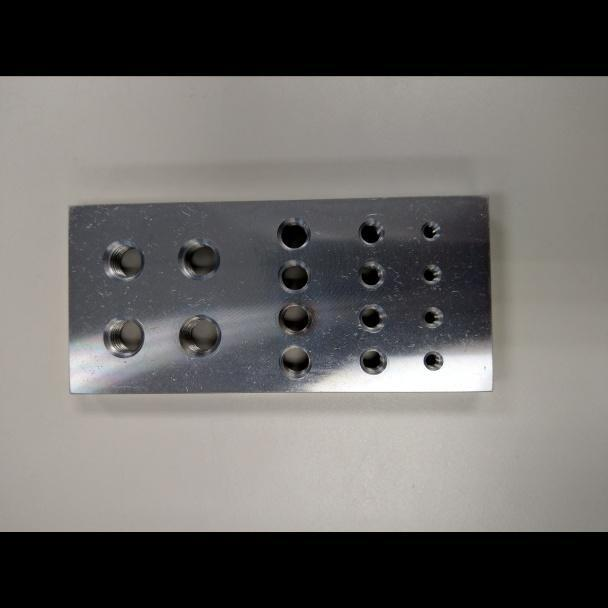hole: (176, 236, 221, 281), (101, 237, 145, 283), (178, 311, 222, 357), (102, 314, 145, 358), (277, 343, 313, 380), (275, 215, 311, 251), (276, 257, 311, 294), (277, 302, 313, 336), (356, 259, 386, 290), (358, 346, 387, 376), (356, 217, 386, 246), (357, 303, 386, 332), (420, 305, 444, 329), (419, 219, 442, 242), (420, 262, 442, 285), (422, 348, 444, 370)
